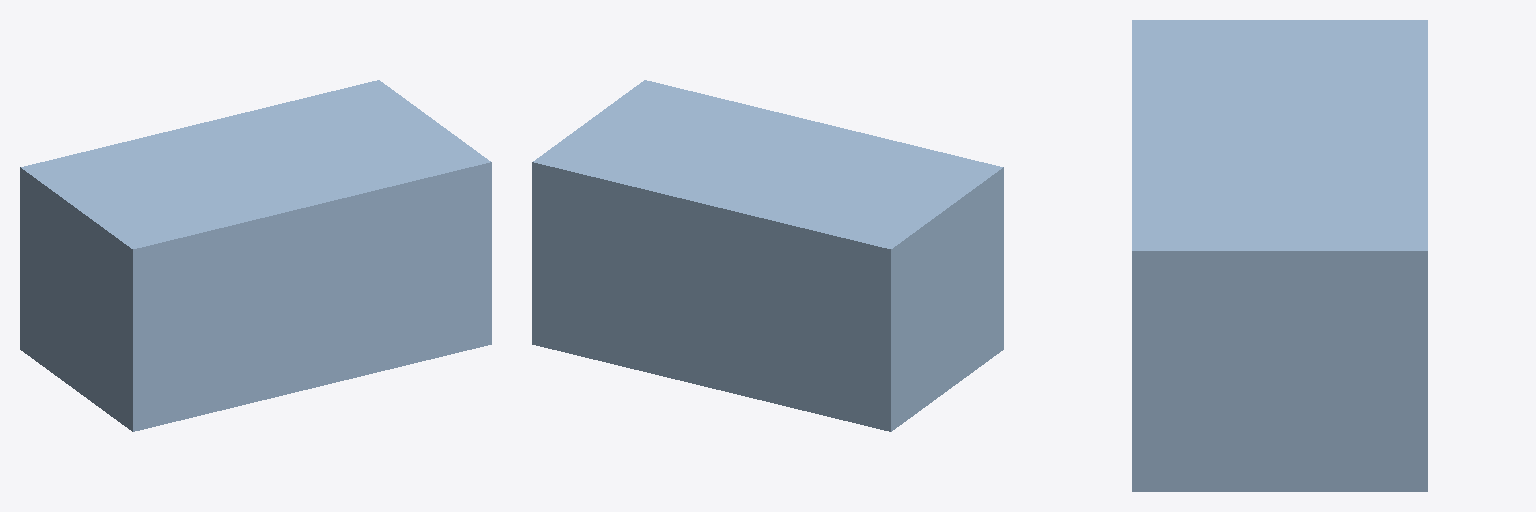
URDF robot description (box_33):
<?xml version="1.0" ?>
<robot name="box_33">
  <dynamics damping="0.5" friction="0.9"/>
  <link name="baseLink">
    <inertial>
      <mass value="0.1"/>
      <origin xyz="0 0 0"/>
      <inertia ixx="0.00083535938" ixy="0" ixz="0" iyy="0.0019457219" iyz="0" izz="0.0020370552"/>
    </inertial>
    <contact>
      <lateral_friction value="0.9"/>
      <rolling_friction value="0.5"/>
      <stiffness value="30000"/>
      <damping value="1000"/>
    </contact>
    <visual>
      <origin rpy="0 0 0" xyz="0 0 0"/>
      <geometry>
        <mesh filename="box_33.obj" scale="1.0 1.0 1.0"/>
      </geometry>
      <material name="mat">
        <color rgba="0.7 0.8 0.9 1"/>
      </material>
    </visual>
    <collision>
      <origin rpy="0 0 0" xyz="0 0 0"/>
      <geometry>
        <mesh filename="box_33.obj" scale="1.0 1.0 1.0"/>
      </geometry>
    </collision>
  </link>
</robot>

--- Render facts (derived) ---
The picture shows the robot from 3 angles, left to right: view 1: azimuth 30°, elevation 25°; view 2: azimuth 150°, elevation 25°; view 3: azimuth 270°, elevation 25°; orthographic projection.
Robot: box_33 — 1 links, 0 joints (none); root link baseLink; default pose: all joints at 0.
Visible links, largest first — view 1: baseLink; view 2: baseLink; view 3: baseLink.
Link boxes in pixels (box(x1,y1,x2,y2)): baseLink: box(20, 80, 491, 431); baseLink: box(532, 80, 1003, 431); baseLink: box(1132, 20, 1427, 491).
Size in the robot's own frame: 0.4346 by 0.2358 by 0.2113 metres.
1 mesh visuals loaded from 1 distinct referenced files (1 OBJ).
